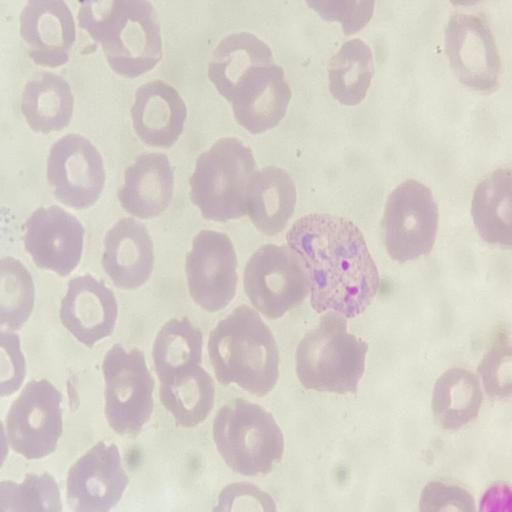Infected: (286, 214, 378, 317)
Uninfected: (207, 308, 280, 397), (79, 0, 163, 77), (190, 138, 263, 222), (295, 315, 366, 395), (100, 344, 156, 436), (213, 403, 283, 476), (242, 244, 309, 320), (380, 180, 439, 265), (208, 32, 276, 104), (444, 10, 501, 93), (5, 380, 64, 459), (44, 134, 106, 209), (23, 205, 86, 277), (184, 232, 239, 312), (59, 276, 118, 348), (100, 218, 157, 291), (152, 317, 209, 389), (67, 442, 127, 510), (19, 0, 78, 68), (118, 152, 177, 219), (233, 64, 290, 133), (157, 363, 216, 429), (130, 81, 188, 148), (243, 167, 297, 235), (21, 72, 76, 134), (470, 167, 511, 246), (327, 39, 374, 107), (431, 369, 483, 430), (476, 326, 512, 403)
